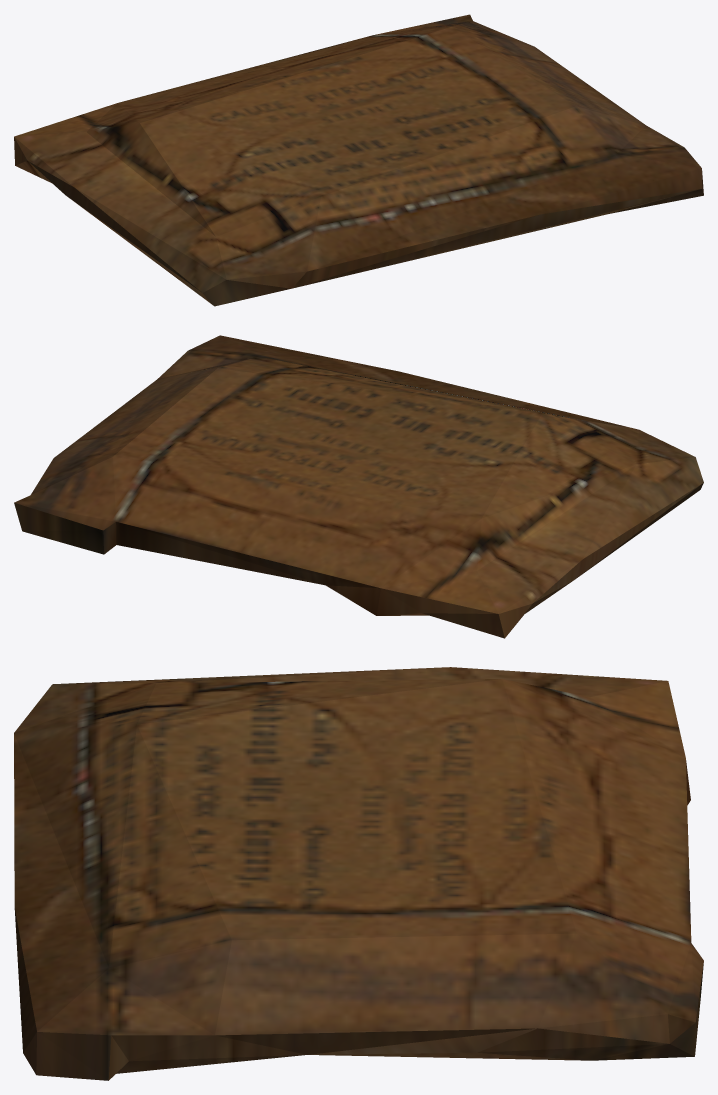
Rendered from package_hr_1.dae.
The picture shows the model from 3 angles, top to bottom: view 1: azimuth 30°, elevation 25°; view 2: azimuth 150°, elevation 25°; view 3: azimuth 270°, elevation 25°; orthographic projection. The views are drawn at different scales.
Parts seen in each view (by area): view 1: package_hr_1; view 2: package_hr_1; view 3: package_hr_1.
Boxes of the visible parts, x1,y1,x2,y2 form: package_hr_1: (14, 14, 703, 306); package_hr_1: (14, 335, 703, 638); package_hr_1: (14, 667, 703, 1080).
Bounding box in the file's own units: 0.5627 × 0.4432 × 0.0685.
1 material, 1 textured.
